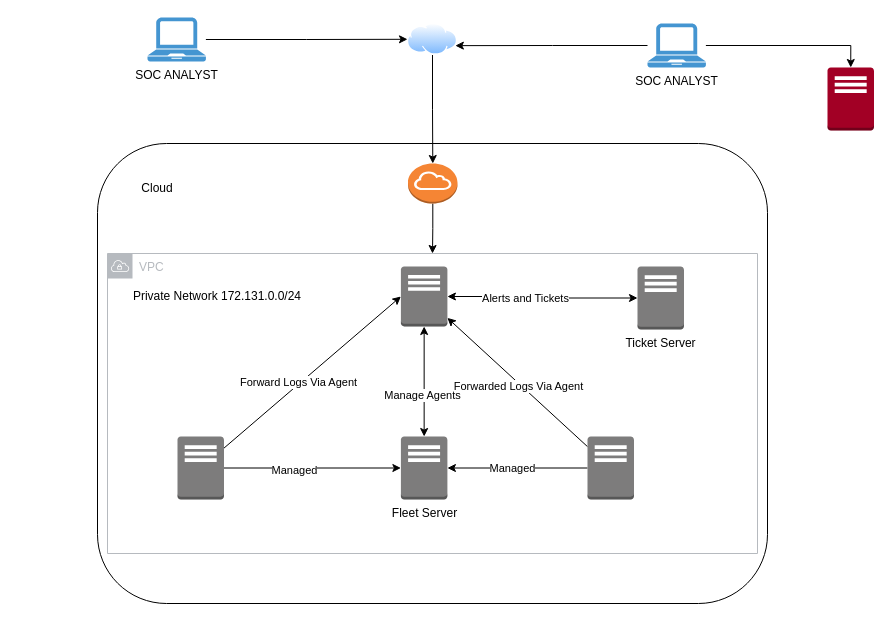
Image size: 895x621. Some labels were removed from this diagram. Here are the shapes that lost their labels. From the top down, the centre of each, then its label:
(423,296): Elastic & Kibana
(200,468): Windows Server
(610,468): Ubuntu With SSH Enabled
